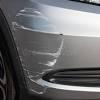front-bumper-dent: (0, 3, 99, 100)
